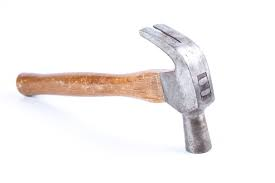hammer: (14, 22, 216, 155)
